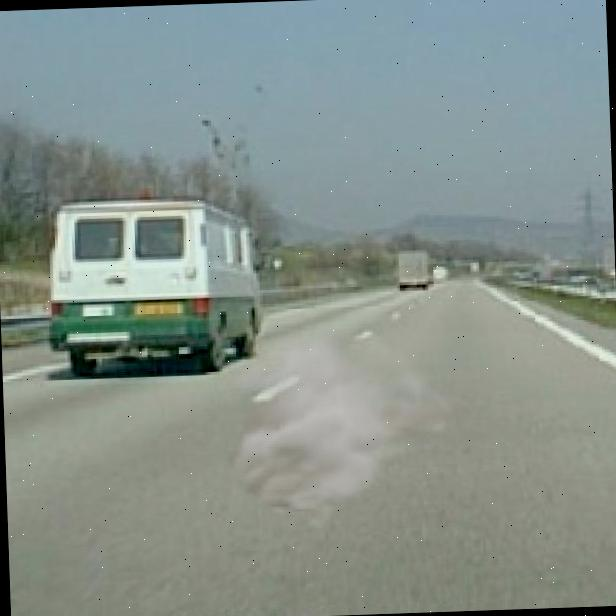smoke: (198, 319, 479, 535)
